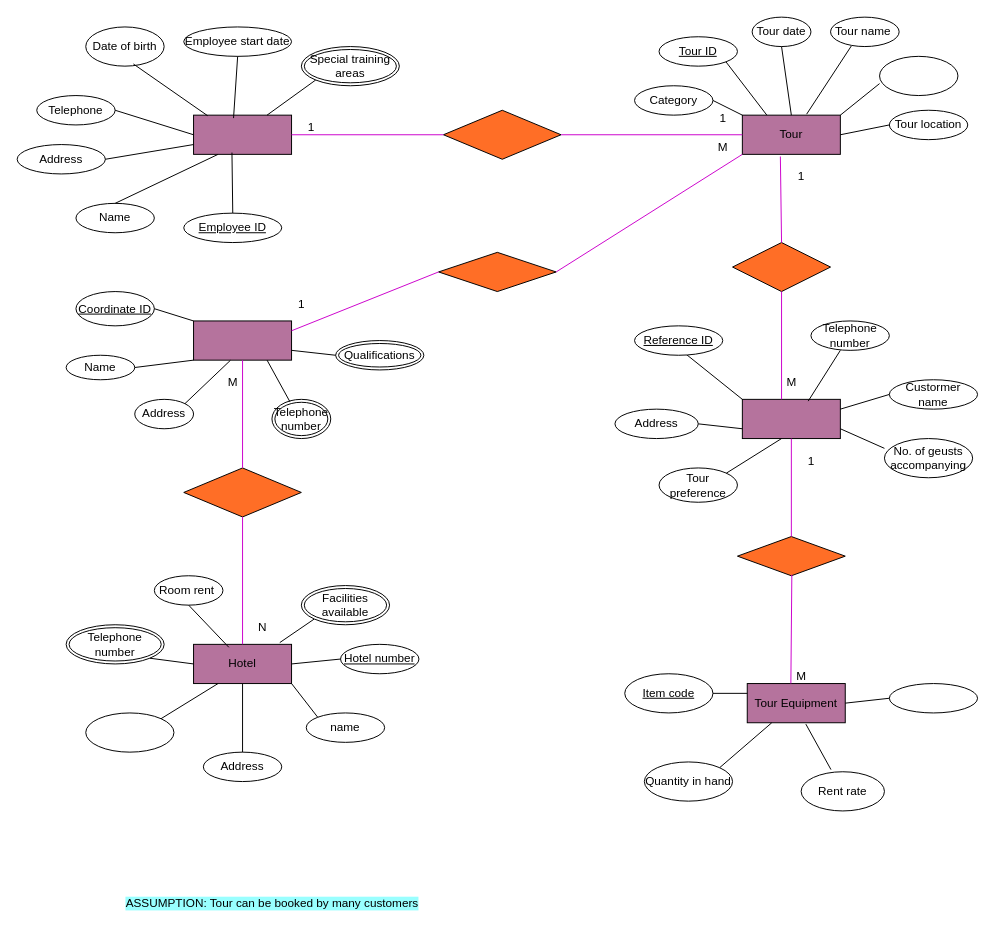
The diagram is 995 pixels wide and 936 high, and some of its shapes have lost their labels. The shapes that lost their labels are listed below. From the top down, each one's centre as x and y in pixels, then its label:
At point 918,75: "Max num of tour members".
At point 242,134: "Tour Guide".
At point 501,134: "assigns to".
At point 497,271: "coordinate".
At point 781,267: "books by".
At point 242,340: "Tour Coordinate".
At point 790,418: "Custormer".
At point 242,492: "make reservations".
At point 790,556: "can rent".
At point 933,698: "Description".
At point 129,732: "Number of rooms".
